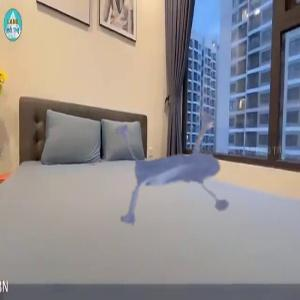drone: (74, 74, 281, 281)
